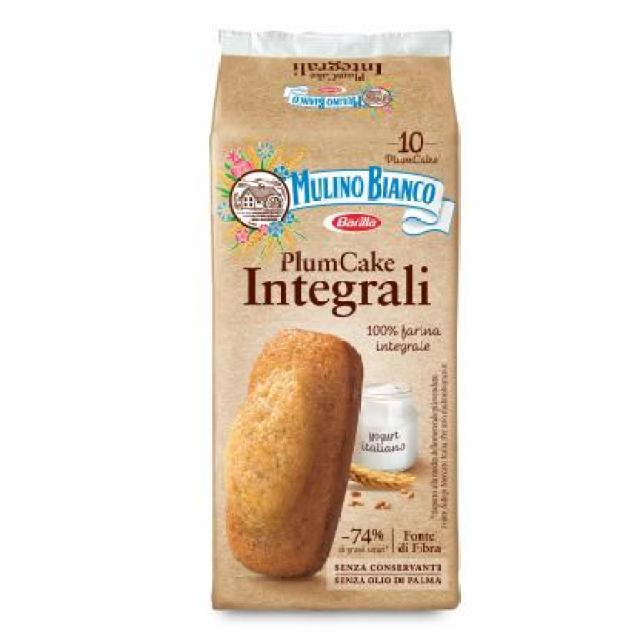Merendine: (184, 87, 478, 621)
